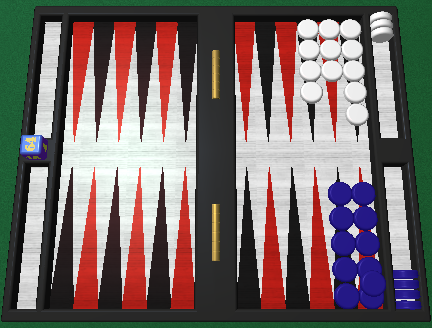checker: (358, 283, 384, 308), (356, 256, 382, 281), (332, 230, 356, 255), (353, 206, 377, 230), (355, 231, 379, 255), (351, 181, 375, 205), (333, 258, 357, 282), (329, 206, 353, 230), (361, 272, 385, 296), (328, 181, 352, 205), (335, 284, 359, 308), (338, 16, 362, 39), (346, 103, 369, 126), (344, 82, 367, 104), (340, 40, 364, 61), (320, 39, 342, 60), (297, 19, 319, 40), (299, 60, 321, 81), (301, 81, 322, 103), (342, 60, 364, 81), (322, 60, 344, 81), (298, 40, 320, 61), (320, 18, 341, 39), (371, 26, 393, 42), (369, 18, 392, 33), (393, 268, 419, 280), (370, 11, 393, 22), (394, 290, 422, 299), (393, 279, 420, 288), (395, 300, 423, 308)
